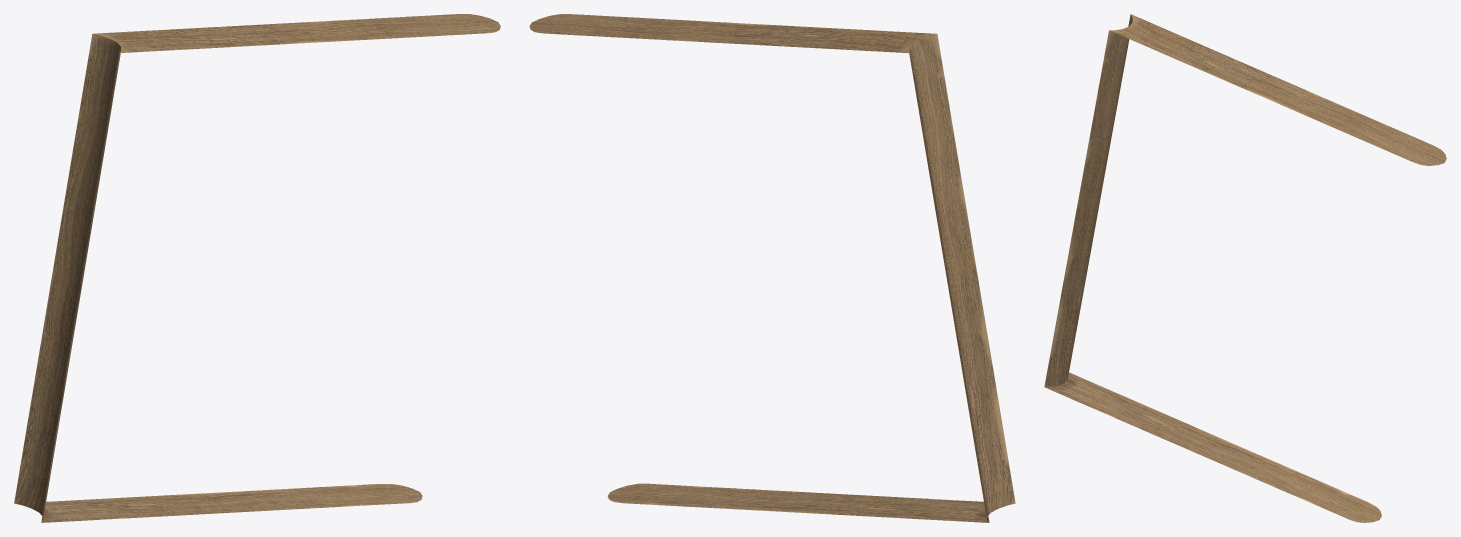
Rendered from Paper003.obj.
3 views of the same model, side by side, from view 1: azimuth 30°, elevation 25°; view 2: azimuth 150°, elevation 25°; view 3: azimuth 330°, elevation 25° (orthographic). The views are drawn at different scales.
Size of the model in its own units: 0.0159 by 0.0169 by 0.00155.
Materials: 1 (1 with a texture image).
